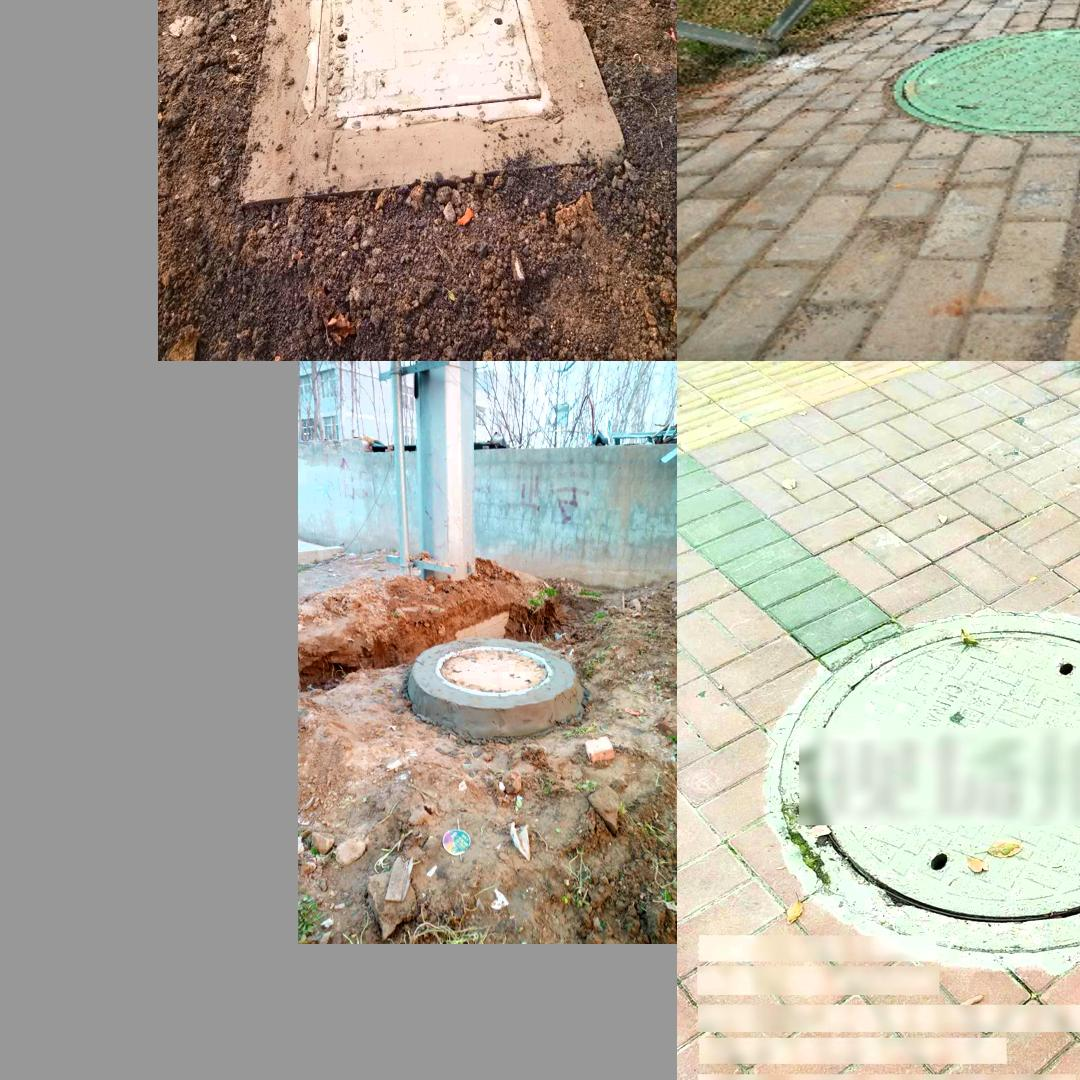good: (775, 621, 1080, 957), (318, 0, 554, 123), (892, 28, 1080, 135), (435, 644, 552, 695)
